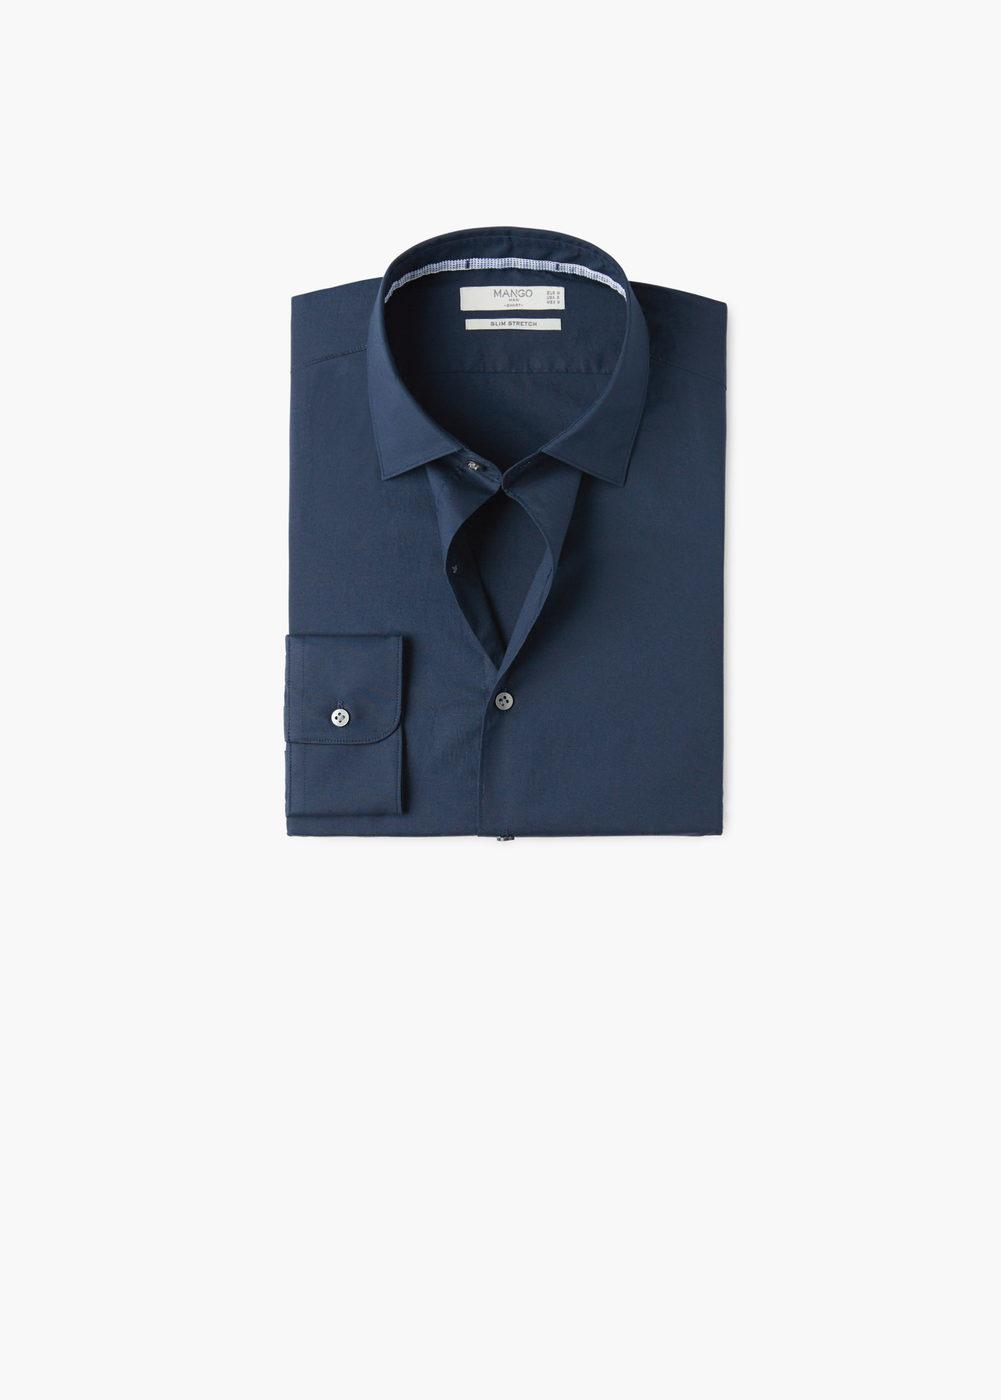teeshirt: (278, 225, 755, 878)
